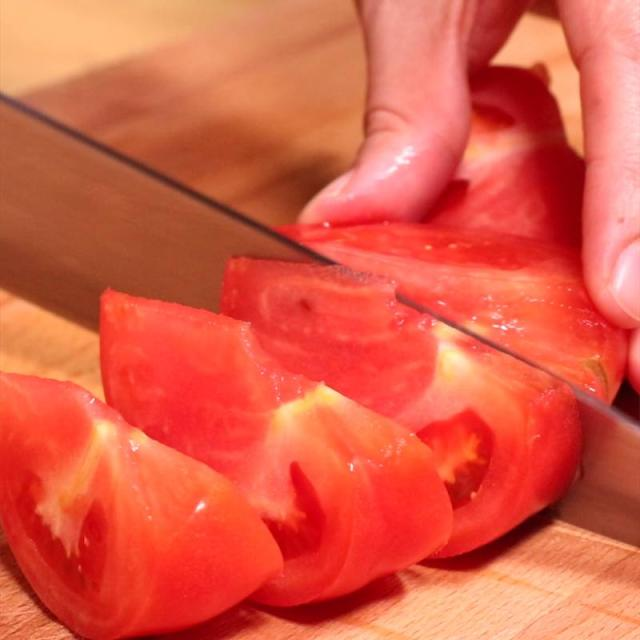Tomato: (87, 280, 458, 619), (214, 251, 583, 571), (0, 363, 286, 640)
